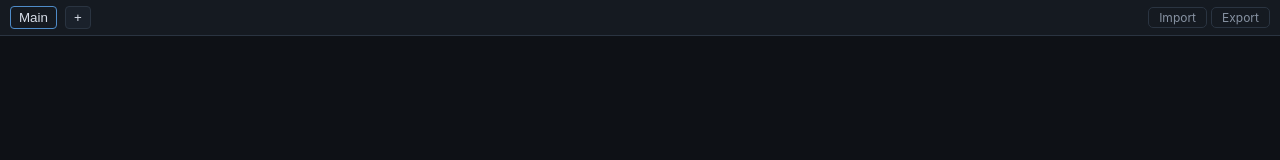
Test: DashboardTabs apps.json interchange › surfaces a read failure instead of failing silently
Step 1. Click the button "Import" → click(1178, 18), box [1148,7,1207,28]
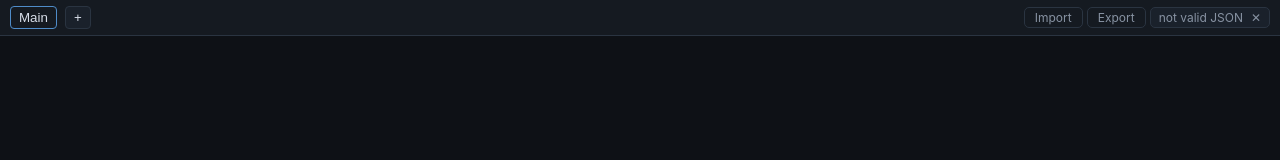
Check: the message shows "not valid JSON", box [1159,10,1243,25]
